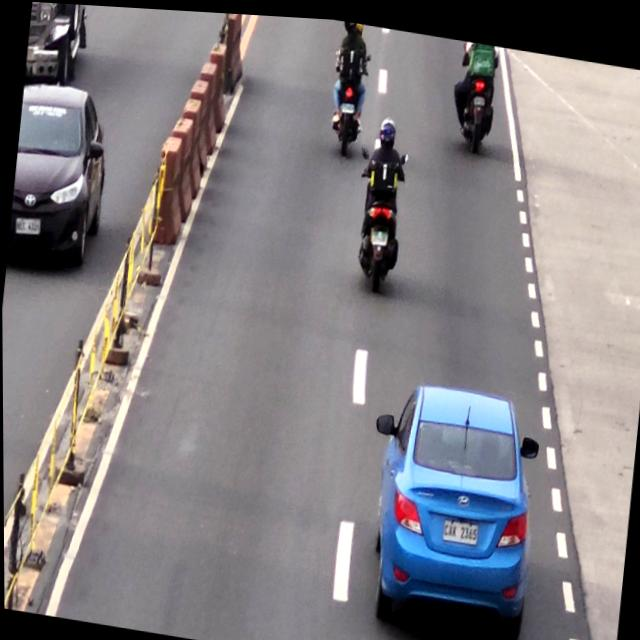Car: (365, 374, 543, 640)
License-Plate: (440, 512, 480, 544), (366, 221, 389, 243), (339, 95, 356, 112)
Motorcycle: (348, 109, 411, 294), (328, 16, 371, 152), (456, 35, 500, 141)
